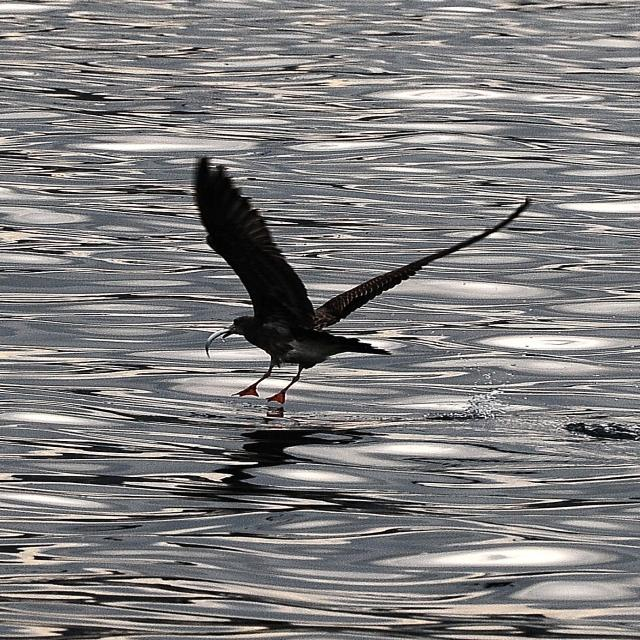bird: (167, 146, 541, 418)
